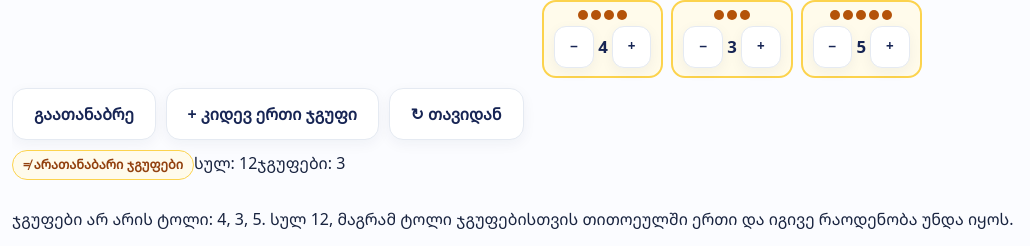
Test: tools: the equal-groups lab › starts uneven and can be made equal
The image size is (1030, 246).
Click the button "გაათანაბრე".
click(84, 114)  # box [12,88,156,140]
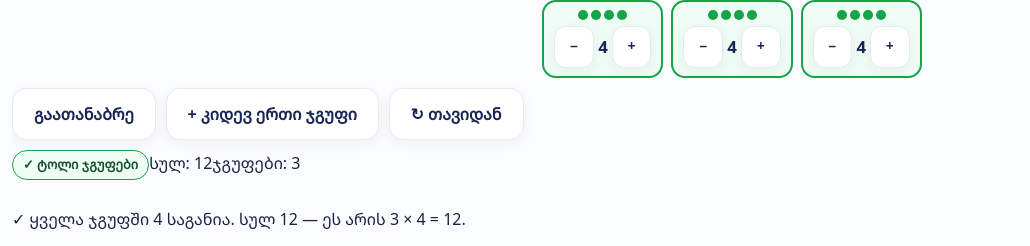
Expected: the message with class "lab-status" shows "12", [12,208,466,230]
Now the message with class "eq-badge" shows "ტოლი", box [23,155,138,173]
